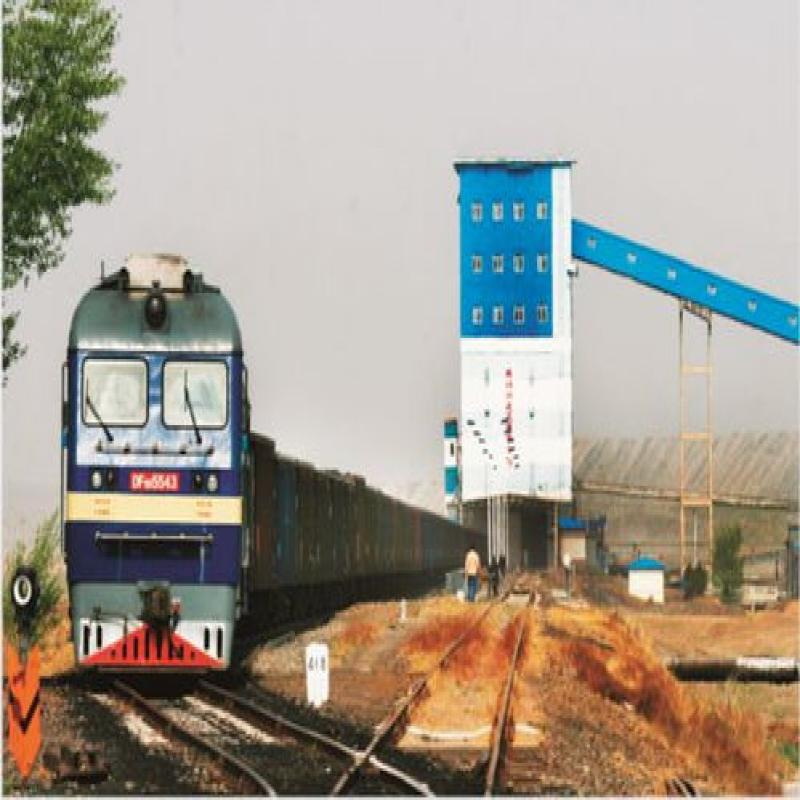train: (64, 265, 287, 677)
